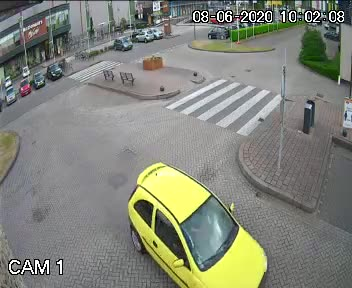car: (116, 155, 273, 288)
